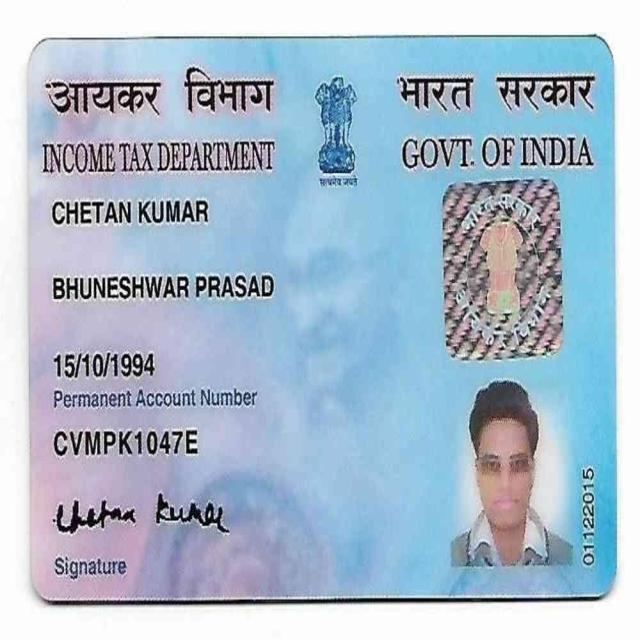pan_card: (33, 45, 607, 599)
